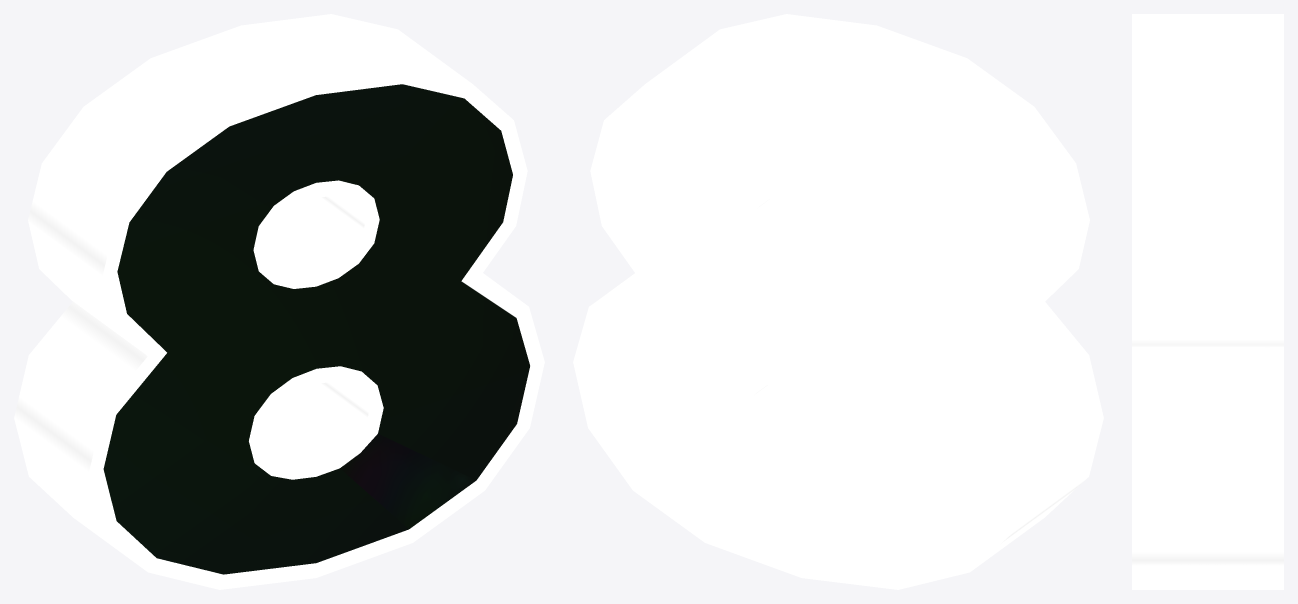
File: number_8.glb
3 renders of one model, left to right at view 1: azimuth 30°, elevation 25°; view 2: azimuth 150°, elevation 25°; view 3: azimuth 270°, elevation 25°, orthographic.
Visible parts, largest first — view 1: number_8; view 2: number_8; view 3: number_8.
Part boxes in pixels (left/top/right/bottom): number_8: left=14, top=14, right=544, bottom=589; number_8: left=573, top=14, right=1103, bottom=589; number_8: left=1132, top=14, right=1283, bottom=589.
Bounding box in the file's own units: 1.07 × 1.12 × 0.3052.
Materials: 1 (1 with a texture image).
